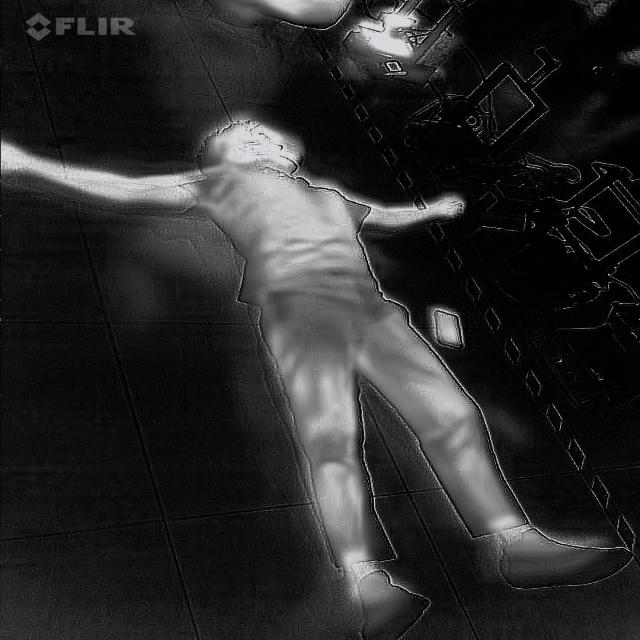Victim: (0, 120, 630, 638)
